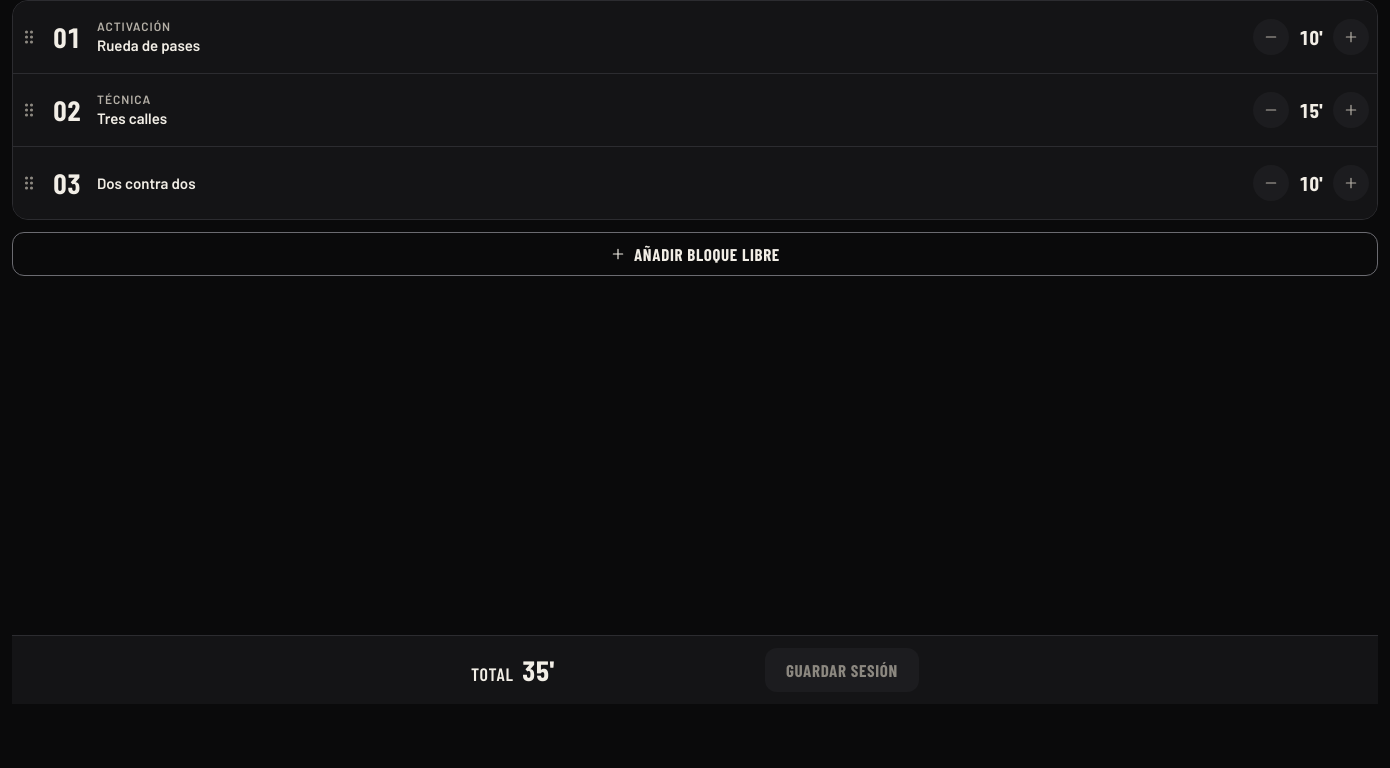
Test: PracticeBuilder · guardar › «Guardar sesión» es el primary y está desactivado mientras no hay cambios
Check: the button "Guardar sesión" is disabled, box [765, 648, 919, 692]
Click the button named "Más minutos, Rueda de pases" at (1351, 37), box [1329, 15, 1373, 59]
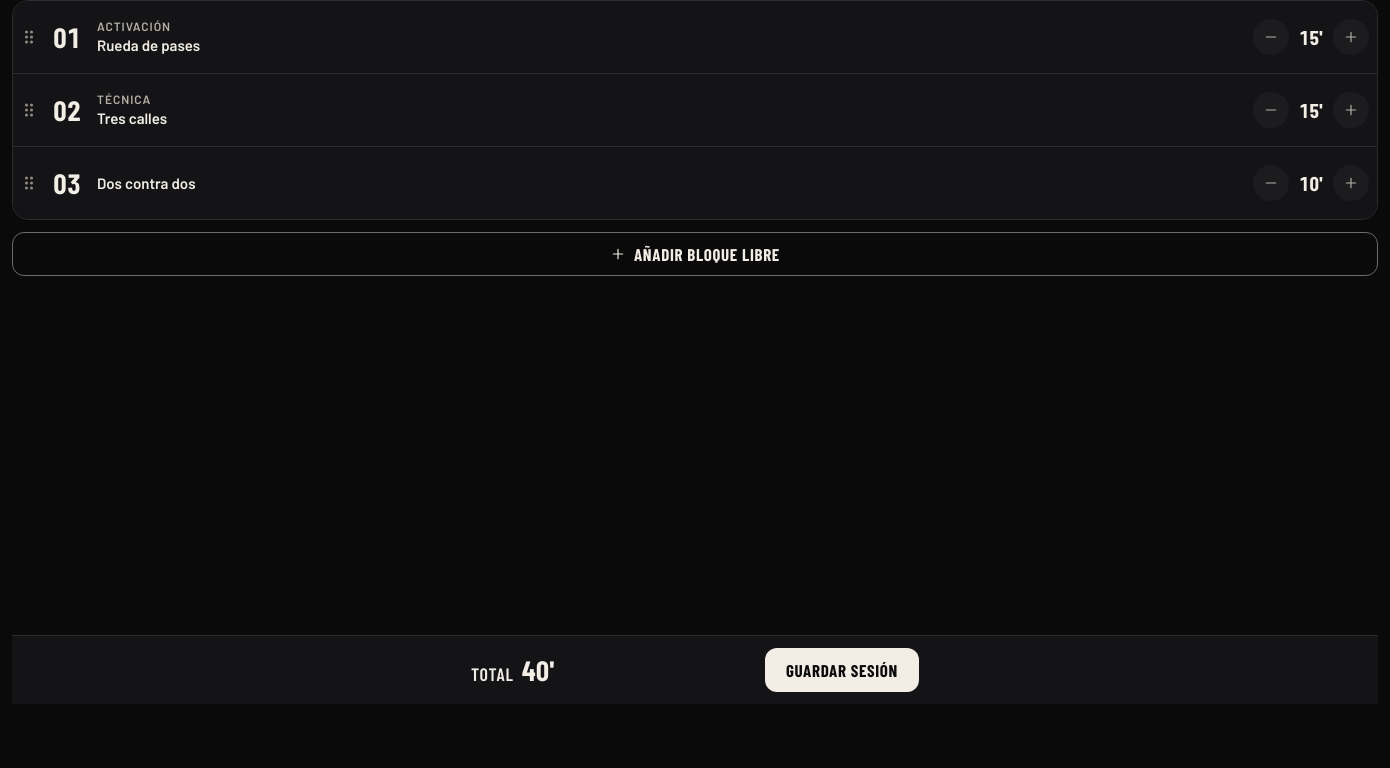
Check: the button "Guardar sesión" is enabled, box [765, 648, 919, 692]
Click the button named "Menos minutos, Rueda de pases" at (1271, 37), box [1249, 15, 1293, 59]
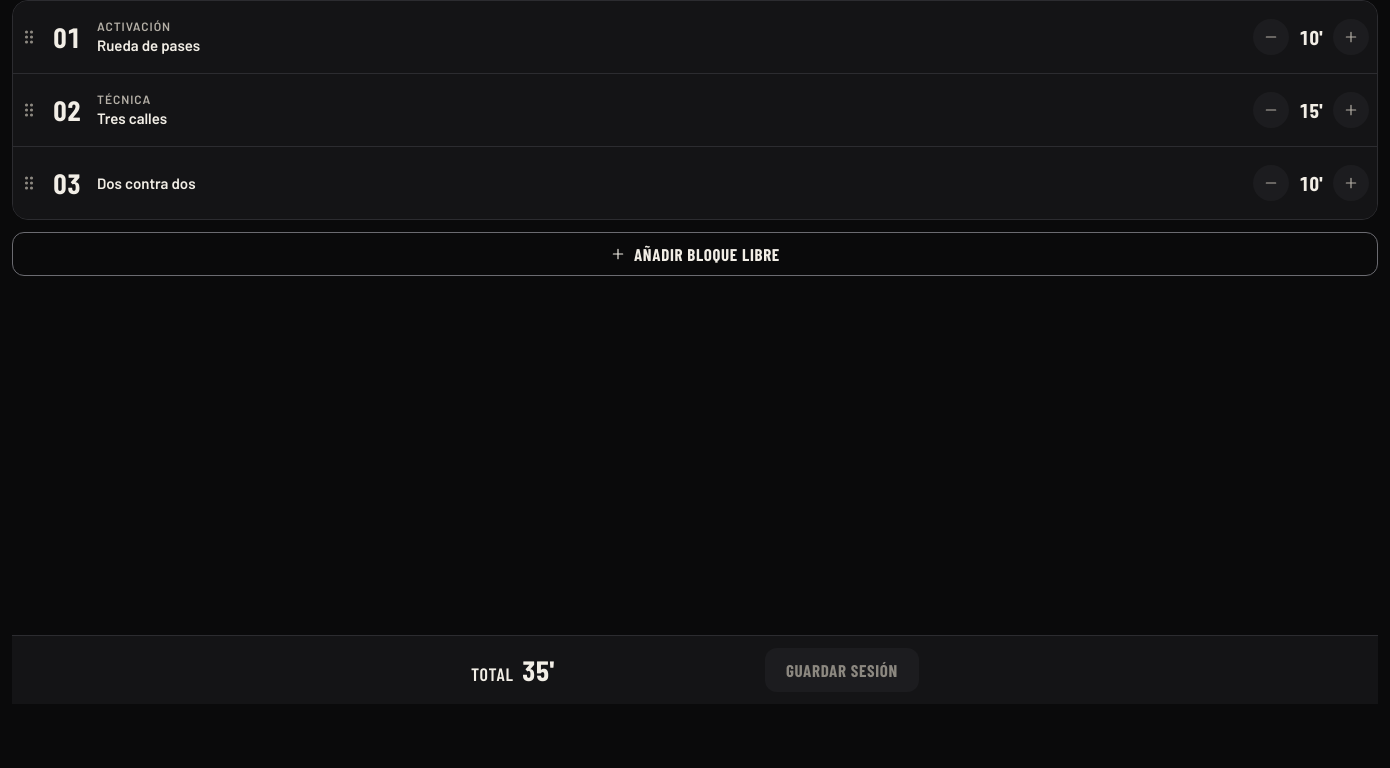
Check: the button "Guardar sesión" is disabled, box [765, 648, 919, 692]
